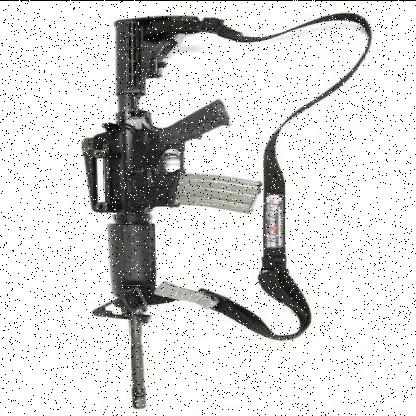rifle: (58, 11, 292, 409)
